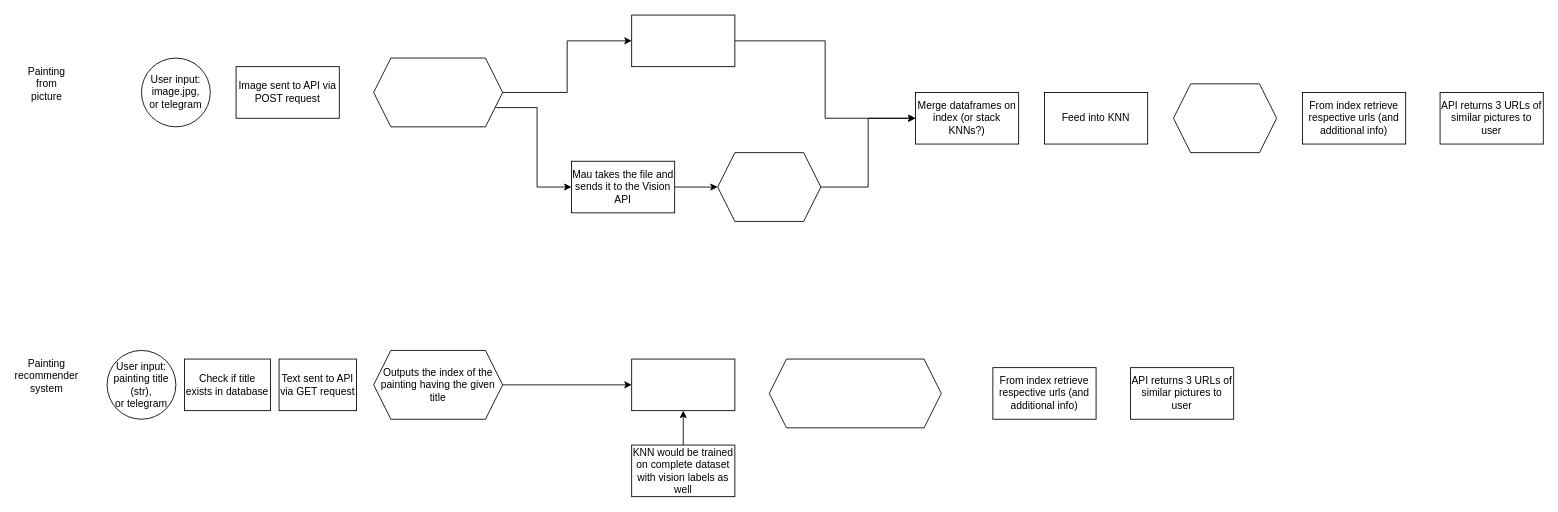
The diagram is 1558 pixels wide and 512 high, and some of its shapes have lost their labels. Each missing label, with the centre of its shape:
"After the POST request, spits out file as sequence of bytes" goes at (438,92).
"Get closest neighbors from pre-trained KNN" goes at (683,384).
"Return dataframe with indexes of closest paintings" goes at (854,393).
"Return df with labels and index column" goes at (769,186).
"Returns index of closest paintings" goes at (1225,118).
"Transform sequence of bytes to flat image vector (resized)" goes at (683,40).
